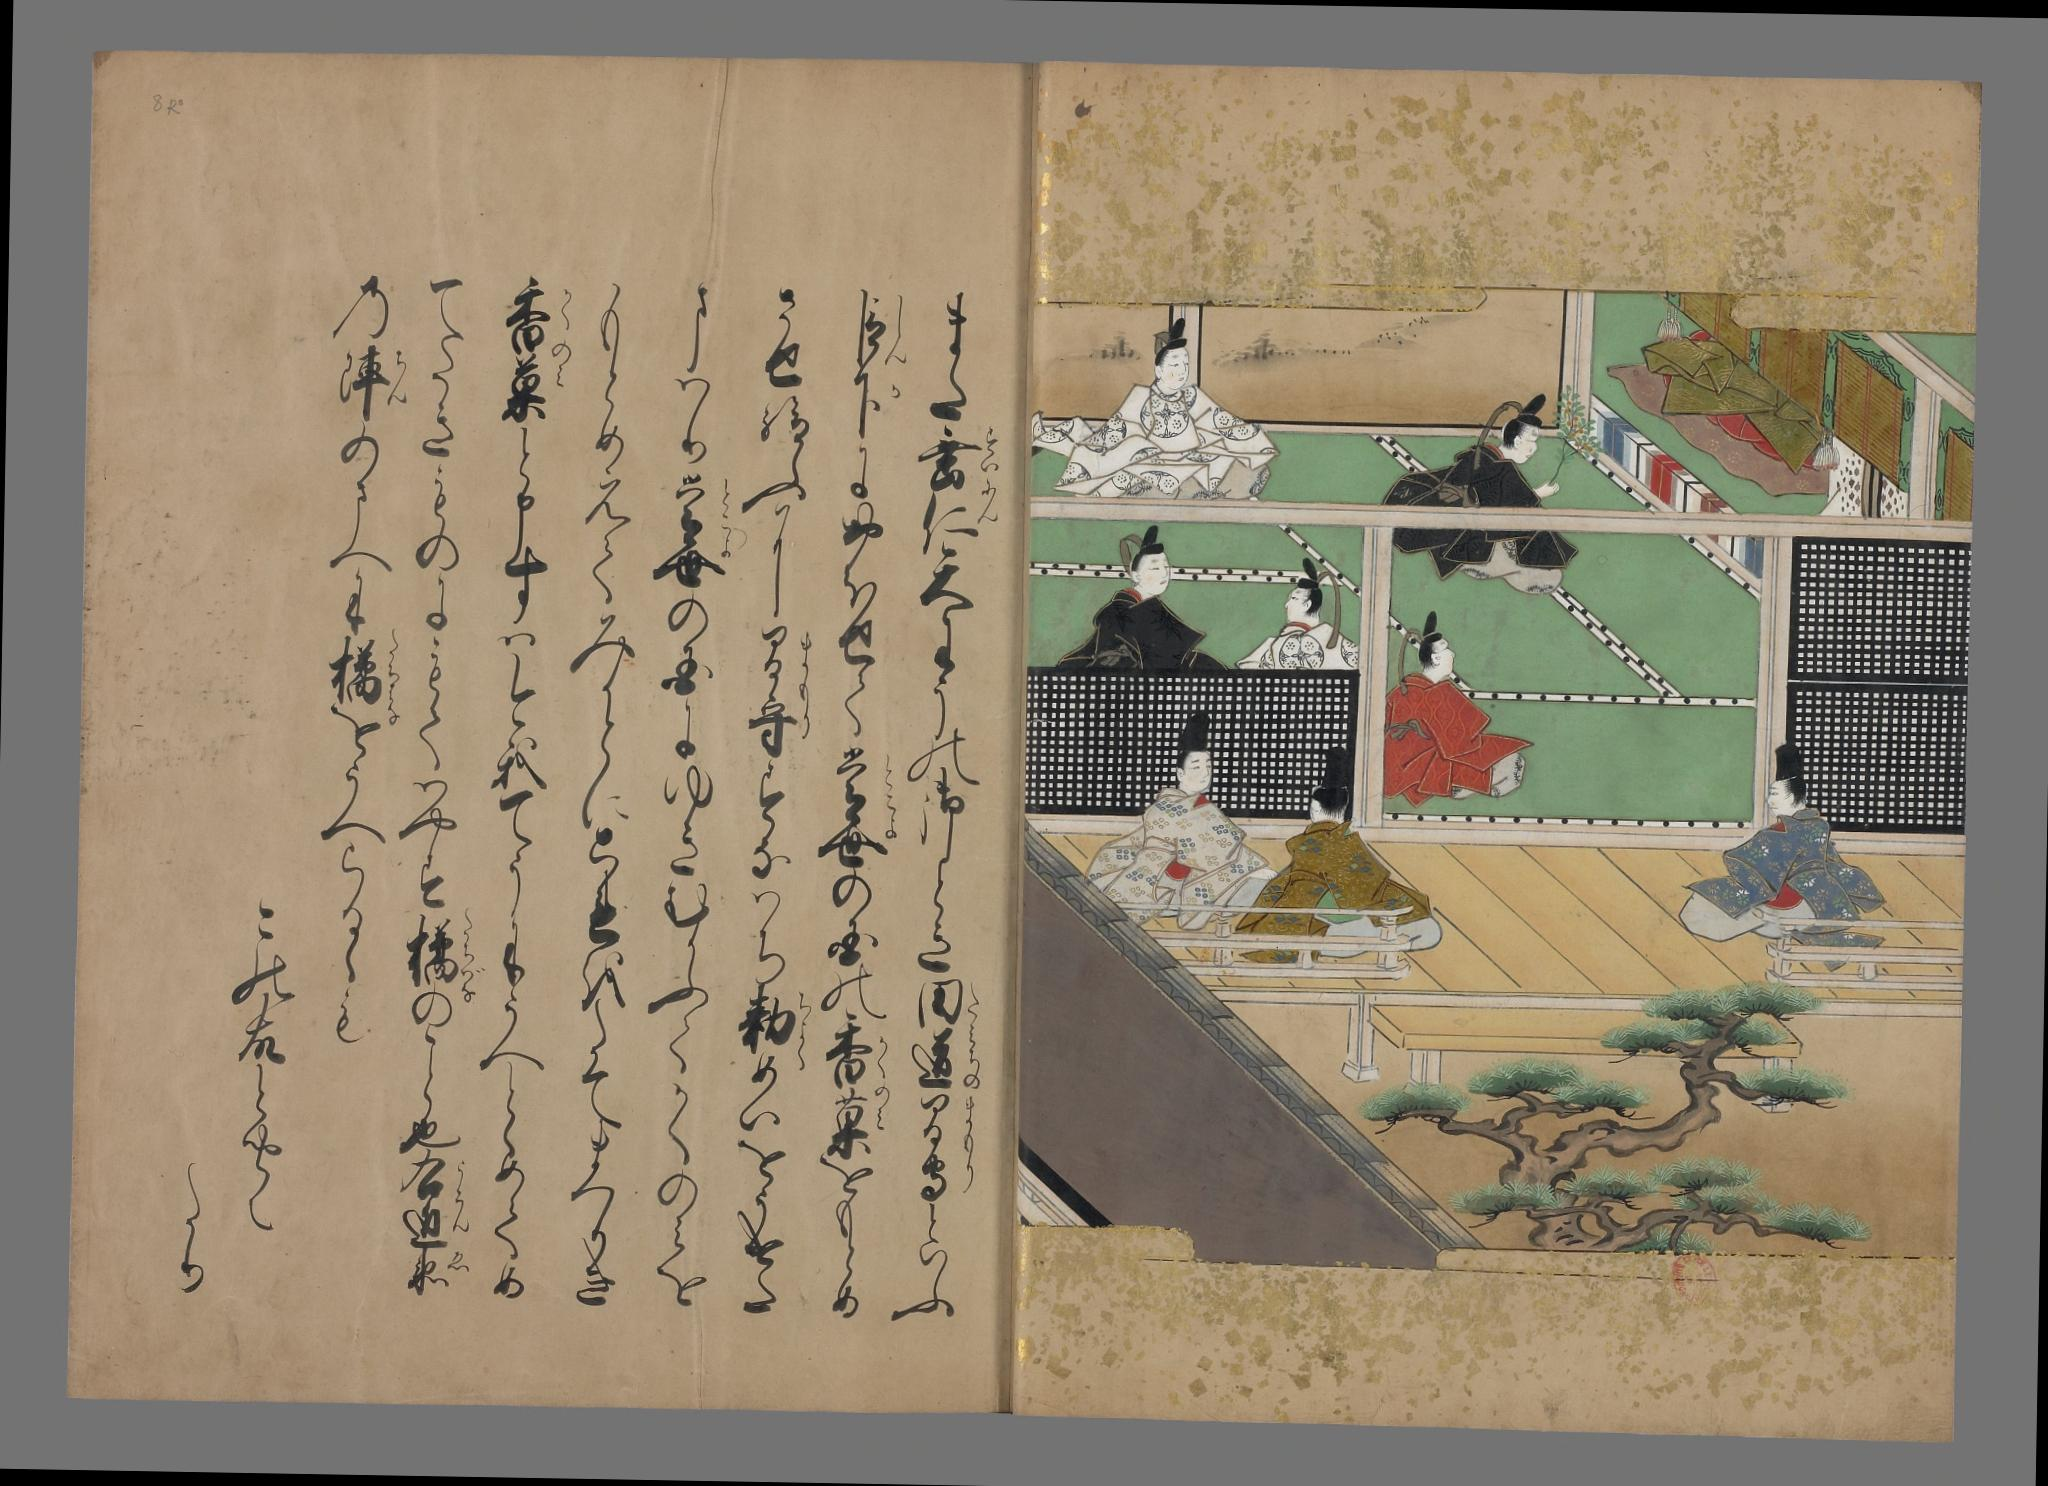MainZone-Character: (318, 625, 405, 725), (402, 906, 490, 1006), (657, 517, 749, 591), (499, 337, 579, 423), (736, 982, 813, 1071), (913, 480, 1003, 555), (813, 801, 903, 869), (498, 275, 579, 351), (326, 348, 407, 421), (919, 428, 1005, 491), (820, 1016, 895, 1087), (752, 682, 816, 763), (827, 1084, 892, 1162), (846, 288, 910, 367), (398, 1248, 480, 1308), (908, 1028, 983, 1092), (820, 745, 900, 801), (848, 370, 908, 440), (911, 974, 986, 1027), (916, 1093, 978, 1154), (401, 1200, 472, 1249), (752, 625, 817, 679), (396, 1157, 472, 1197), (916, 1154, 978, 1202), (669, 475, 738, 518)
MainZone-Ruby: (453, 907, 485, 1001), (378, 629, 405, 726), (881, 292, 911, 364), (790, 990, 809, 1071), (385, 351, 409, 410), (547, 340, 574, 389), (973, 477, 999, 528), (792, 683, 814, 741), (867, 1087, 892, 1136), (711, 524, 744, 561), (555, 283, 577, 334), (978, 426, 1000, 474), (962, 1035, 981, 1090), (790, 628, 813, 674), (962, 976, 984, 1020), (876, 753, 897, 798), (957, 1098, 976, 1146), (871, 1030, 890, 1078), (445, 1249, 479, 1276), (714, 477, 735, 517), (450, 1202, 472, 1235), (881, 806, 900, 844), (962, 1157, 978, 1197), (455, 1155, 469, 1195), (884, 378, 903, 405)
